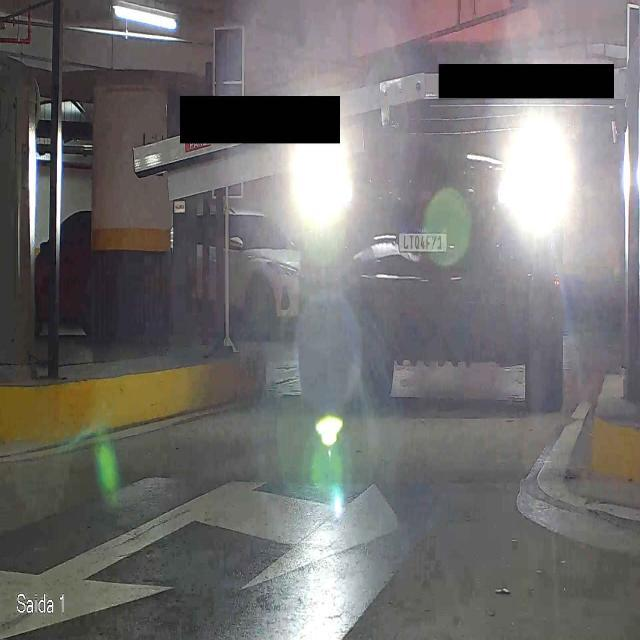mercosul_plate: (398, 228, 449, 253)
